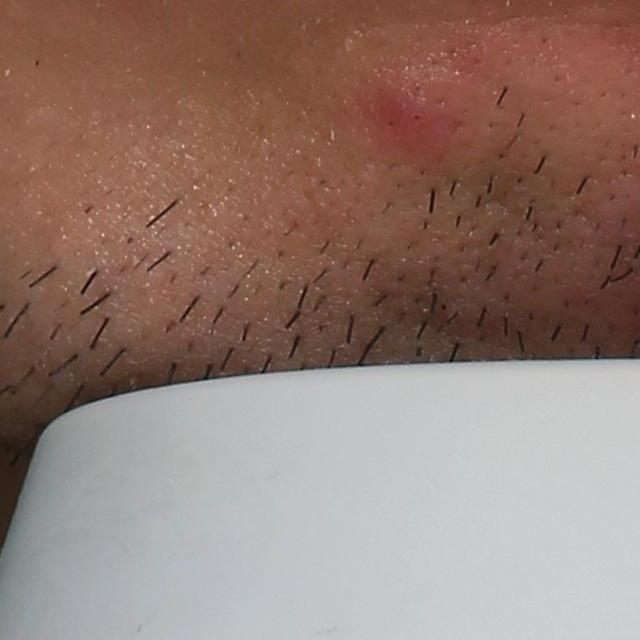papule: (357, 72, 459, 169)
